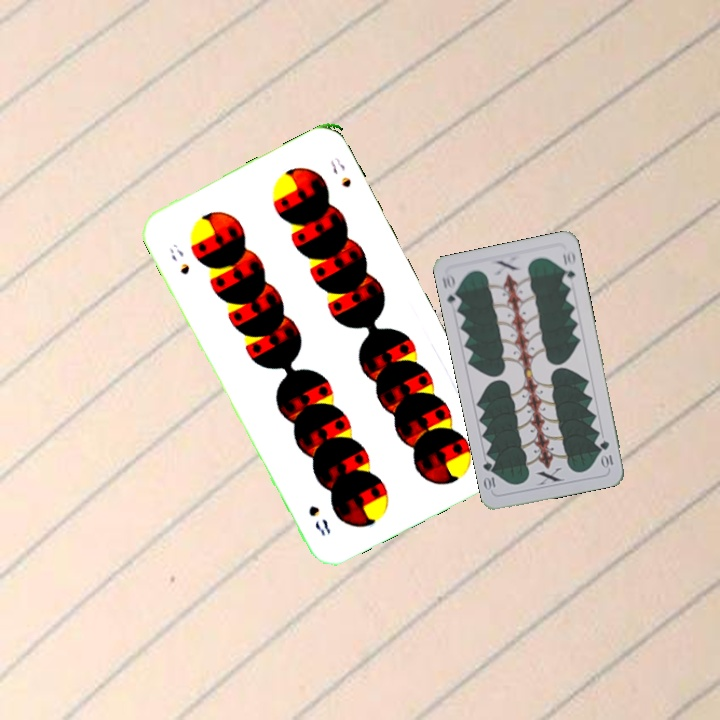G10: (438, 270, 463, 311), (596, 436, 616, 470)
S8: (165, 239, 192, 277)
